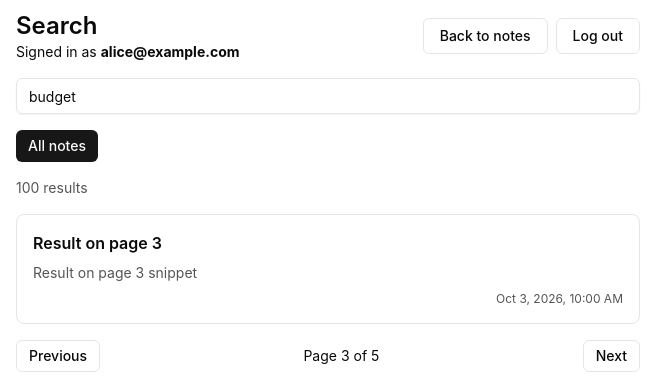
Scenario: debounced search box › New query resets the page
Expected: the link "Result on page 3" is shown, [33, 233, 162, 253]
Replace the text in the search field named "Search notes" with "invoice" at x=328, y=96, box [16, 78, 640, 114]
Wait 350 ms
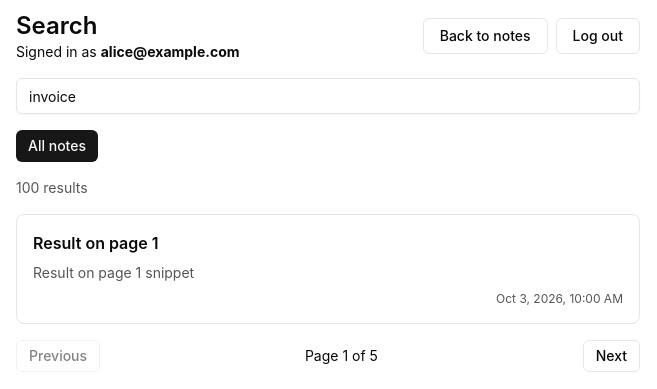
Now the link "Result on page 1" is shown, box [33, 233, 158, 253]
